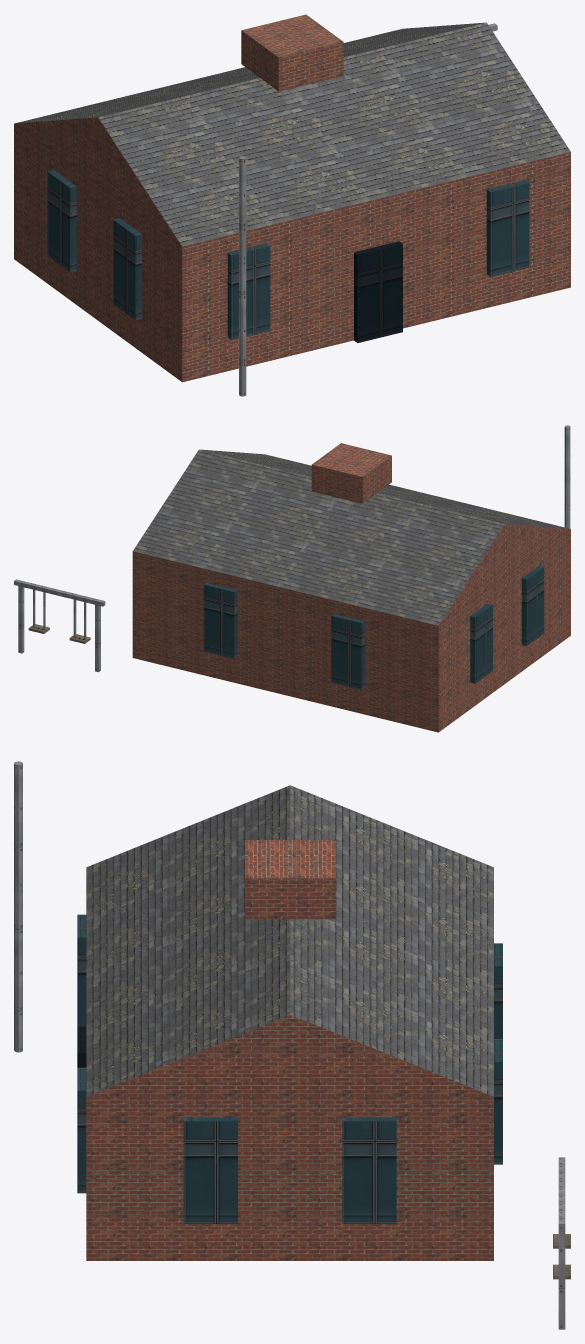
File: one-room-schoolhouse_lod0.gltf
3 views of the same model, one above another, from view 1: azimuth 30°, elevation 25°; view 2: azimuth 150°, elevation 25°; view 3: azimuth 270°, elevation 25° (orthographic). The views are drawn at different scales.
Visible parts, largest first — view 1: one-room-schoolhouse_roof, one-room-schoolhouse_walls, one-room-schoolhouse_fen_07-glass-curtain-blue_0, one-room-schoolhouse__bell_tower, one-room-schoolhouse_gable_ends, one-room-schoolhouse_fen_07-glass-curtain-blue_1_t, one-room-schoolhouse__flag_pole; view 2: one-room-schoolhouse_walls, one-room-schoolhouse_roof, one-room-schoolhouse_fen_07-glass-curtain-blue_0, one-room-schoolhouse__bell_tower, one-room-schoolhouse_gable_ends, one-room-schoolhouse__flag_pole, one-room-schoolhouse__swing_bar, one-room-schoolhouse__swing_post_b, one-room-schoolhouse__swing_post_a; view 3: one-room-schoolhouse_roof, one-room-schoolhouse_walls, one-room-schoolhouse_gable_ends, one-room-schoolhouse_fen_07-glass-curtain-blue_0, one-room-schoolhouse__bell_tower, one-room-schoolhouse__flag_pole, one-room-schoolhouse__swing_post_b.
Boxes of the visible parts, x1,y1,x2,y2 form: one-room-schoolhouse_roof: (14,22,570,246); one-room-schoolhouse_walls: (14,124,570,382); one-room-schoolhouse_fen_07-glass-curtain-blue_0: (47,170,529,339); one-room-schoolhouse__bell_tower: (241,14,343,91); one-room-schoolhouse_gable_ends: (14,117,181,246); one-room-schoolhouse_fen_07-glass-curtain-blue_1_t: (354,241,402,342); one-room-schoolhouse__flag_pole: (239,156,246,396); one-room-schoolhouse_walls: (132,529,570,732); one-room-schoolhouse_roof: (133,449,569,625); one-room-schoolhouse_fen_07-glass-curtain-blue_0: (203,565,544,689); one-room-schoolhouse__bell_tower: (311,443,391,503); one-room-schoolhouse_gable_ends: (439,524,570,625); one-room-schoolhouse__flag_pole: (564,425,570,528); one-room-schoolhouse__swing_bar: (14,579,105,606); one-room-schoolhouse__swing_post_b: (18,586,24,653); one-room-schoolhouse__swing_post_a: (95,605,100,672); one-room-schoolhouse_roof: (86,785,493,1096); one-room-schoolhouse_walls: (86,1097,493,1260); one-room-schoolhouse_gable_ends: (87,1015,493,1096); one-room-schoolhouse_fen_07-glass-curtain-blue_0: (77,914,502,1223); one-room-schoolhouse__bell_tower: (245,840,335,919); one-room-schoolhouse__flag_pole: (14,761,22,1052); one-room-schoolhouse__swing_post_b: (558,1230,565,1329).
Bounding box in the file's own units: 15.95 × 7 × 12.3.
